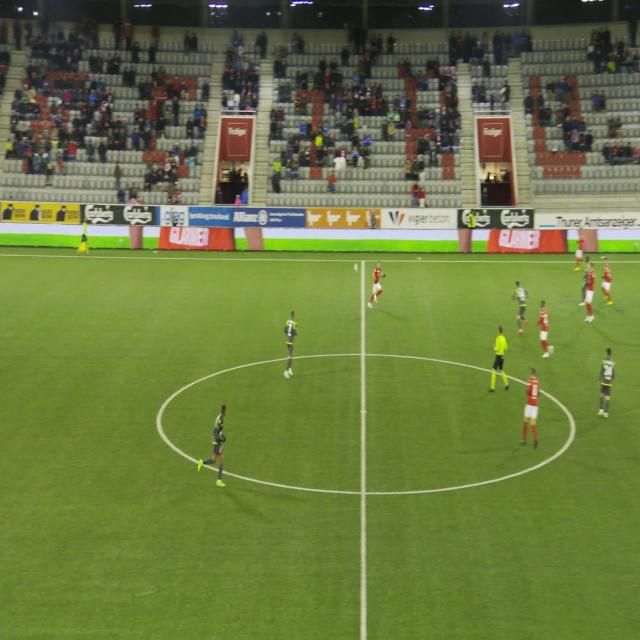Ball: (353, 255, 360, 278)
Player: (195, 393, 233, 501), (516, 362, 549, 465), (592, 340, 620, 426), (276, 303, 300, 392), (508, 270, 532, 341), (366, 253, 390, 320), (536, 293, 557, 364), (582, 249, 601, 326), (598, 258, 620, 318), (570, 234, 589, 270)
Referee: (486, 326, 513, 392), (76, 215, 90, 262)
